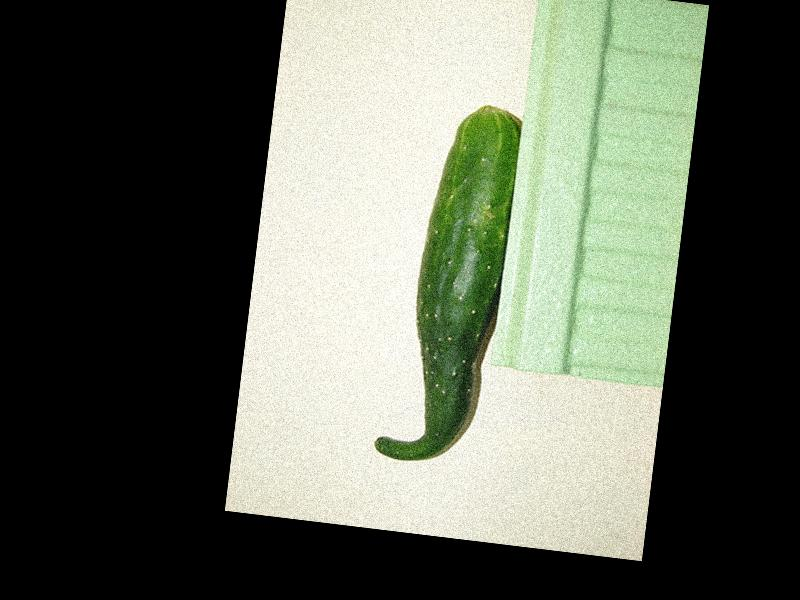Cucumber: (373, 97, 523, 470)
